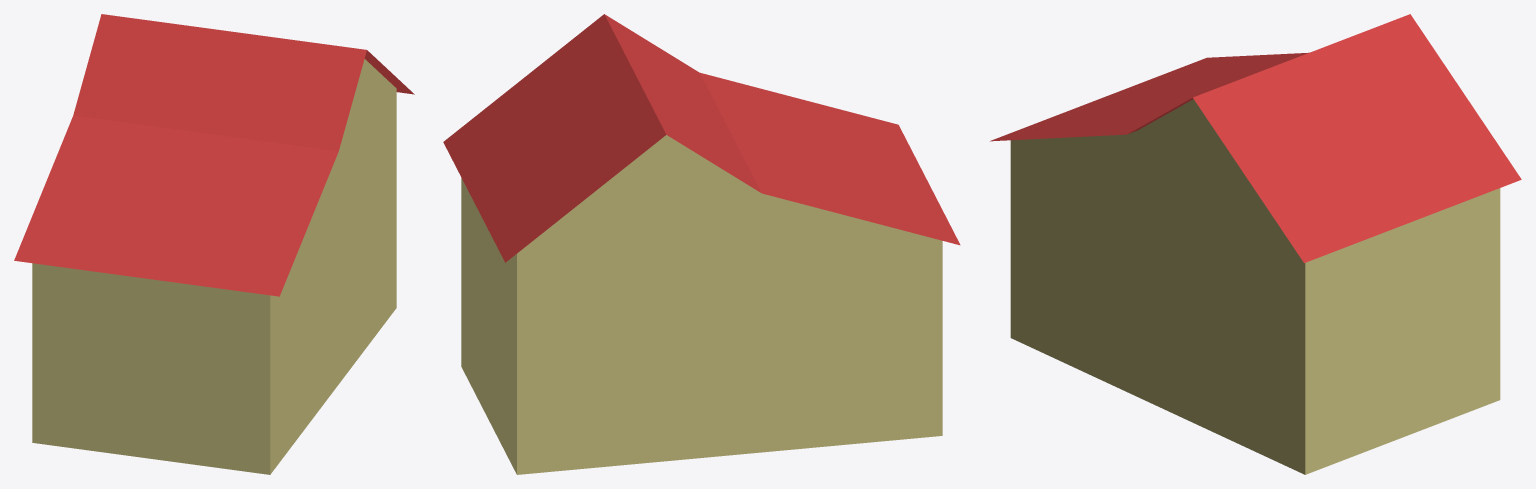
The picture shows the model from 3 angles, left to right: view 1: azimuth 30°, elevation 25°; view 2: azimuth 150°, elevation 25°; view 3: azimuth 270°, elevation 25°; orthographic projection. The views are drawn at different scales.
Size of the model in its own units: 17.74 by 17.36 by 12.03.
